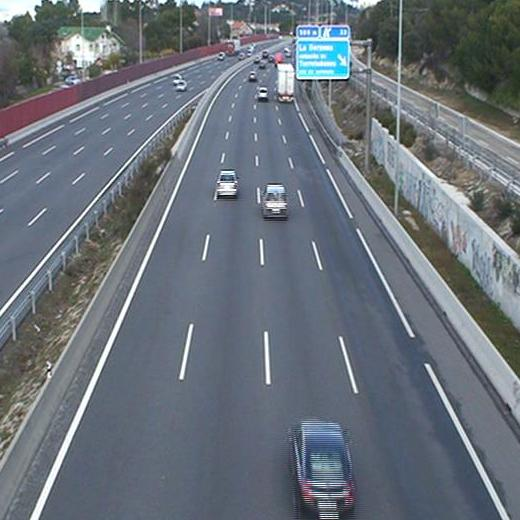car: (291, 422, 354, 509), (262, 185, 289, 217), (216, 169, 237, 198), (257, 87, 269, 100), (248, 71, 257, 82)
truck: (277, 64, 293, 104)
